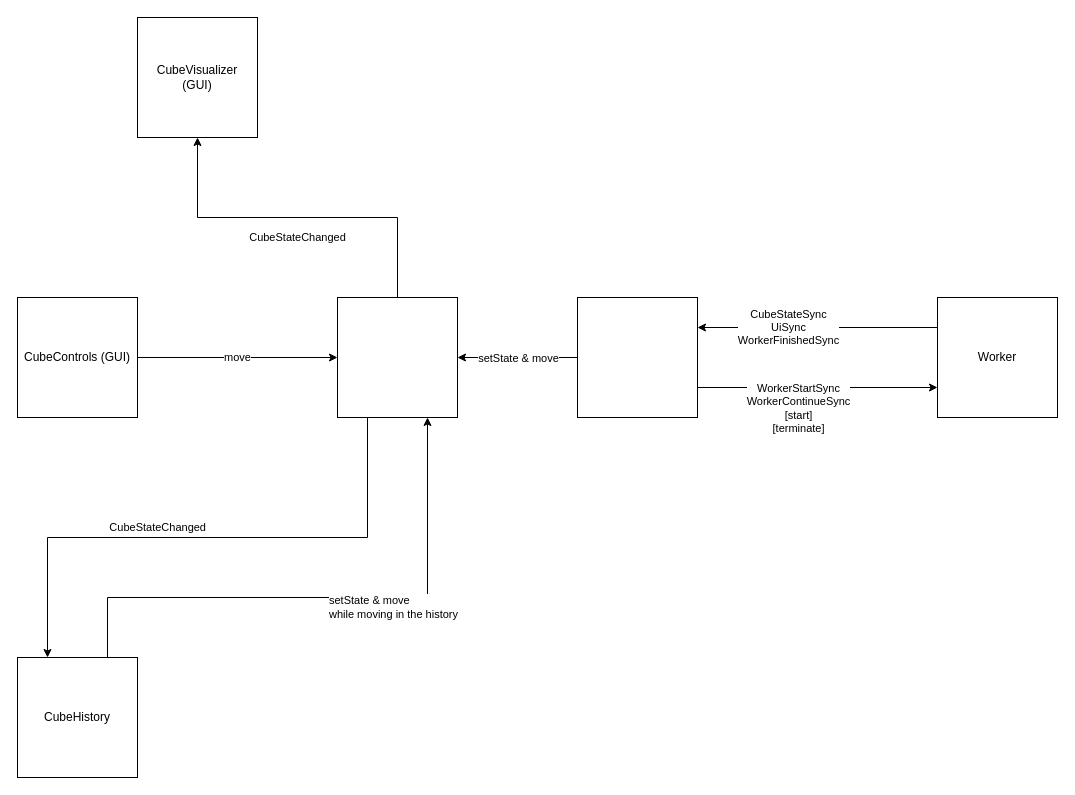
This 1075x795 diagram has some shape labels left out. Each missing label, with the centre of its shape:
"Cube" belongs at pixel 397 357.
"ProgramRunner" belongs at pixel 637 357.
